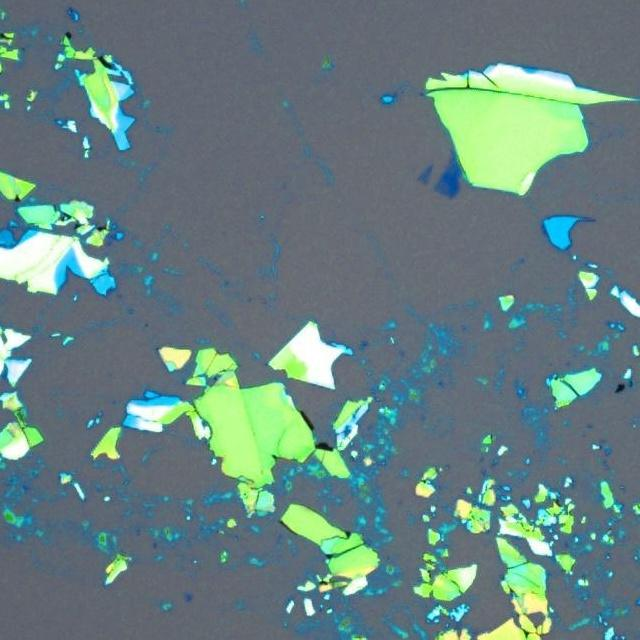monolayer-eWW4: (436, 182, 448, 195), (446, 162, 454, 176), (419, 171, 428, 183)
